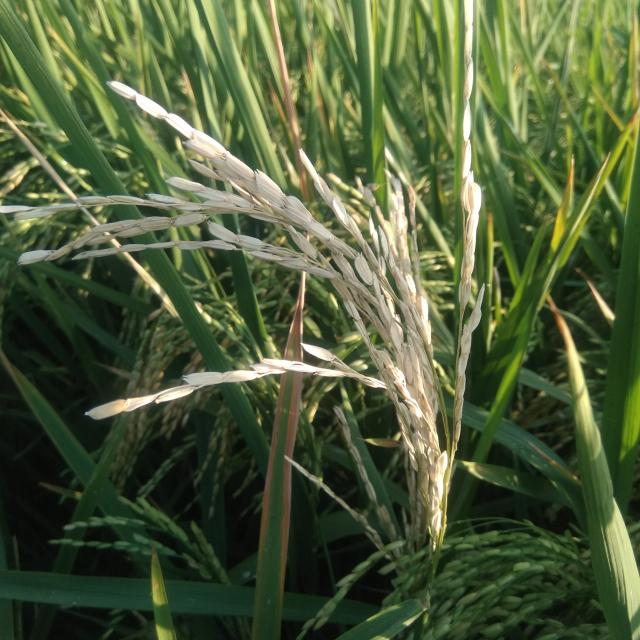Brown spot: (267, 379, 306, 444), (258, 463, 294, 525), (283, 280, 312, 354), (545, 294, 569, 337)
